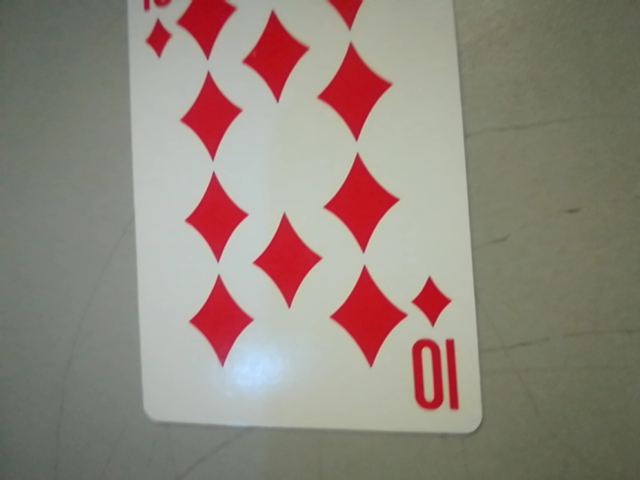fk 10: (401, 264, 472, 425)
